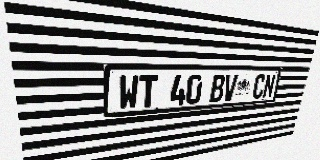0: (185, 74, 203, 105)
4: (169, 75, 188, 106)
B: (209, 74, 226, 103)
C: (252, 74, 266, 99)
N: (262, 74, 276, 98)
T: (138, 75, 158, 108)
V: (222, 74, 238, 102)
W: (118, 75, 139, 110)
